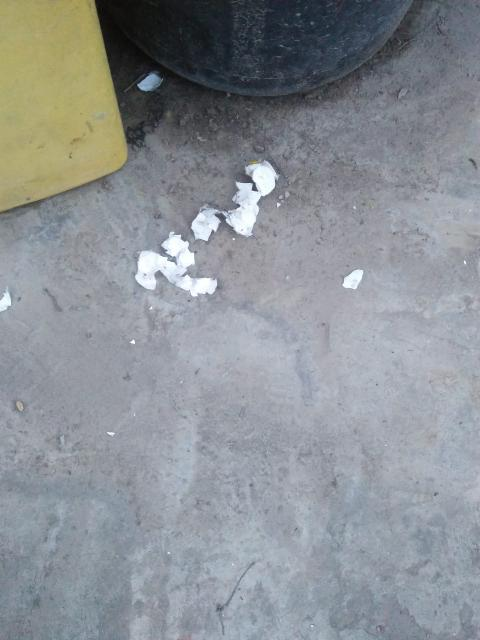Roto: (134, 230, 218, 297), (224, 159, 278, 237), (190, 206, 221, 242), (342, 268, 364, 290)
